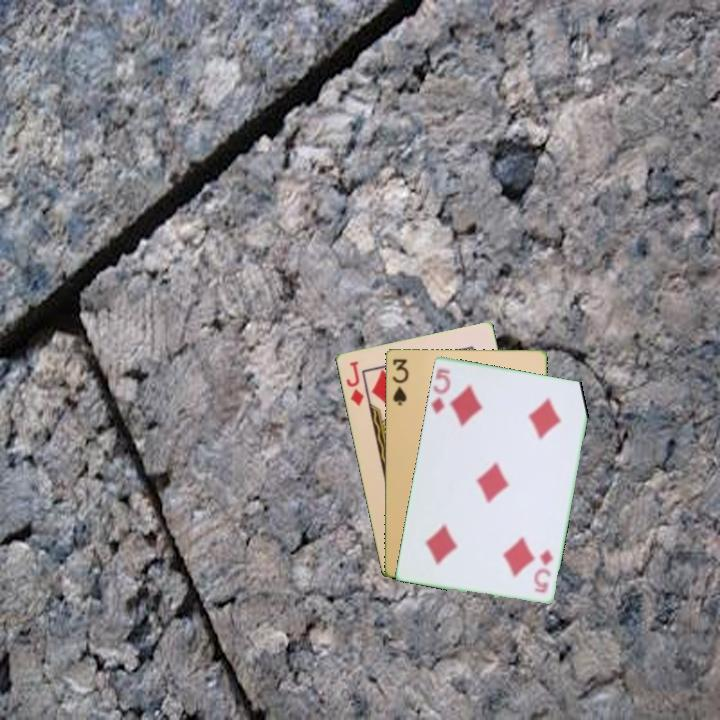3s: (389, 355, 411, 408)
5d: (530, 545, 556, 595), (428, 365, 453, 416)
Jd: (342, 357, 367, 409)
